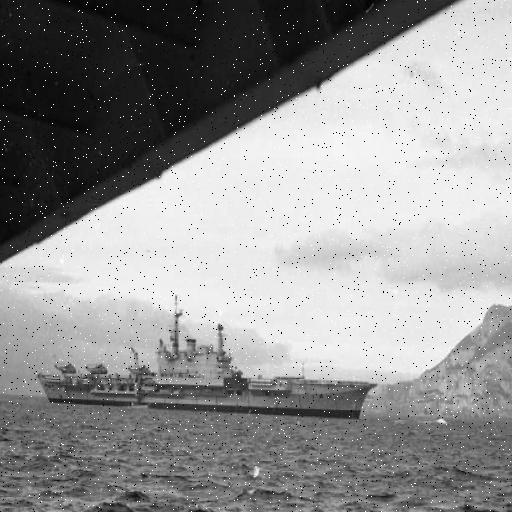Portanaves: (35, 287, 383, 423)
